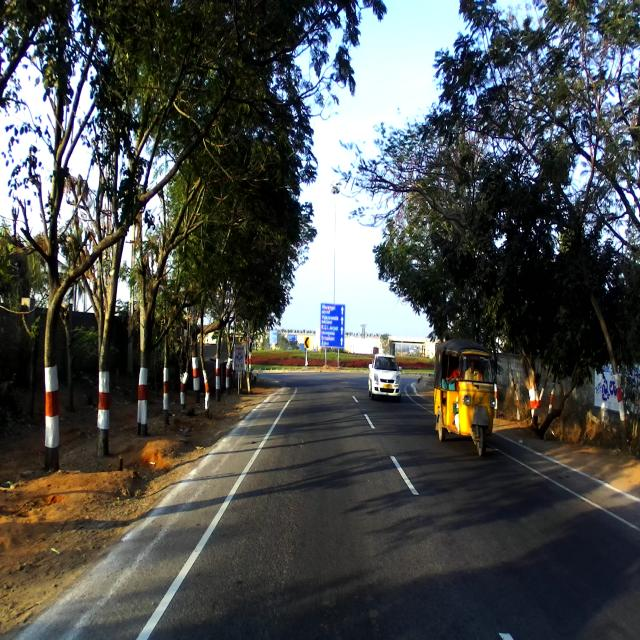auto ahead at: (430, 338, 495, 454)
car ahead at: (369, 350, 400, 405)
tree ahead at: (34, 256, 78, 474), (85, 285, 119, 463)
